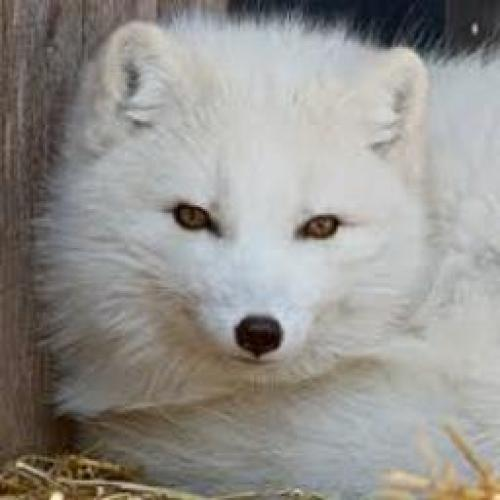arctic_fox-endangered: (32, 19, 500, 483)
